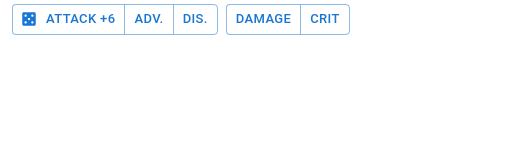
AttackRoller › rolls the attack: a d20 plus the bonus
This screenshot has width=509, height=160.
Step 1. Click the button with aria-label "Roll attack for Club" → x=69, y=19, box [12,4,126,35]
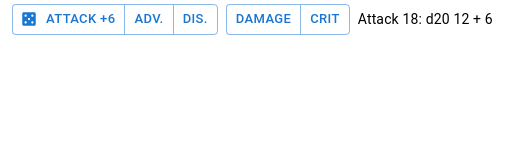
Check: the message reads "Attack 18: d20 12 + 6", box [358,11,493,27]
